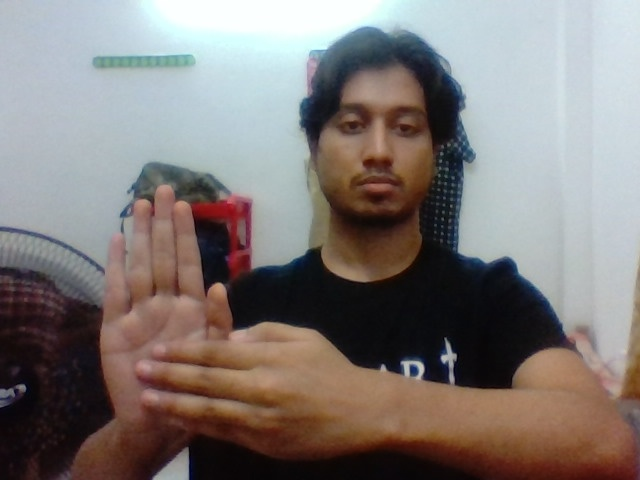H: (90, 170, 369, 468)
